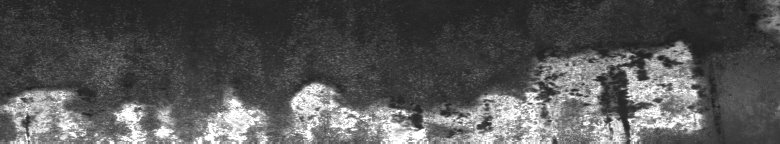kb: (4, 36, 680, 136)
